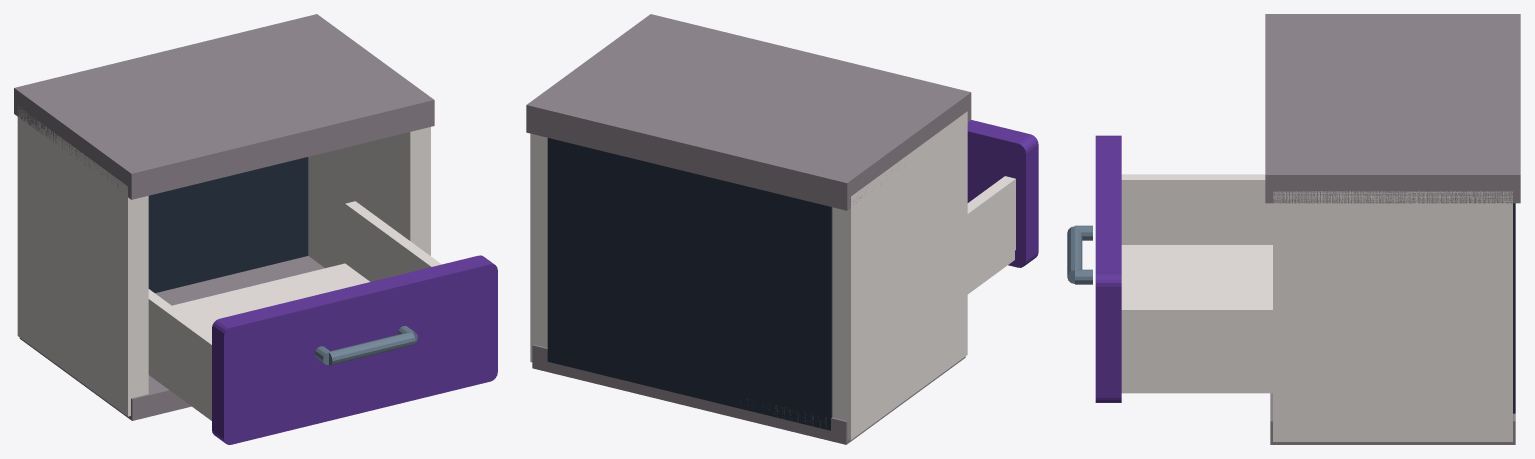
File: drawer.glb
3 renders of one model, left to right at view 1: azimuth 30°, elevation 25°; view 2: azimuth 150°, elevation 25°; view 3: azimuth 270°, elevation 25°, orthographic. The views are drawn at different scales.
Parts seen in each view (by area): view 1: top, drawer front, side -0.68, back, side 0.68, tray, tray side -0.59, tray side 0.59, bottom, drawer grip1; view 2: back, top, side -0.68, drawer front, bottom, tray side -0.59, side 0.68; view 3: side 0.68, top, tray side 0.59, tray, tray side -0.59, drawer front, bottom, drawer grip1, back.
Boxes of the visible parts, x1=… form: top: x1=14, y1=14, x2=434, y2=199; drawer front: x1=212, y1=255, x2=497, y2=444; side -0.68: x1=17, y1=106, x2=148, y2=416; back: x1=148, y1=157, x2=308, y2=292; side 0.68: x1=308, y1=127, x2=430, y2=268; tray: x1=148, y1=263, x2=369, y2=420; tray side -0.59: x1=148, y1=289, x2=211, y2=411; tray side 0.59: x1=345, y1=201, x2=441, y2=281; bottom: x1=19, y1=256, x2=324, y2=420; drawer grip1: x1=329, y1=332, x2=415, y2=365; back: x1=547, y1=138, x2=832, y2=430; top: x1=526, y1=14, x2=971, y2=210; side -0.68: x1=832, y1=111, x2=967, y2=439; drawer front: x1=967, y1=120, x2=1038, y2=267; bottom: x1=532, y1=344, x2=965, y2=444; tray side -0.59: x1=967, y1=176, x2=1015, y2=284; side 0.68: x1=530, y1=133, x2=547, y2=362; side 0.68: x1=1273, y1=191, x2=1512, y2=441; top: x1=1265, y1=14, x2=1520, y2=203; tray side 0.59: x1=1121, y1=304, x2=1272, y2=383; tray: x1=1121, y1=245, x2=1272, y2=393; tray side -0.59: x1=1121, y1=174, x2=1272, y2=244; drawer front: x1=1095, y1=135, x2=1121, y2=402; bottom: x1=1270, y1=393, x2=1515, y2=444; drawer grip1: x1=1067, y1=226, x2=1082, y2=283; back: x1=1513, y1=203, x2=1515, y2=413.
Size of the model in its own units: 1.46 by 1.15 by 1.74.
